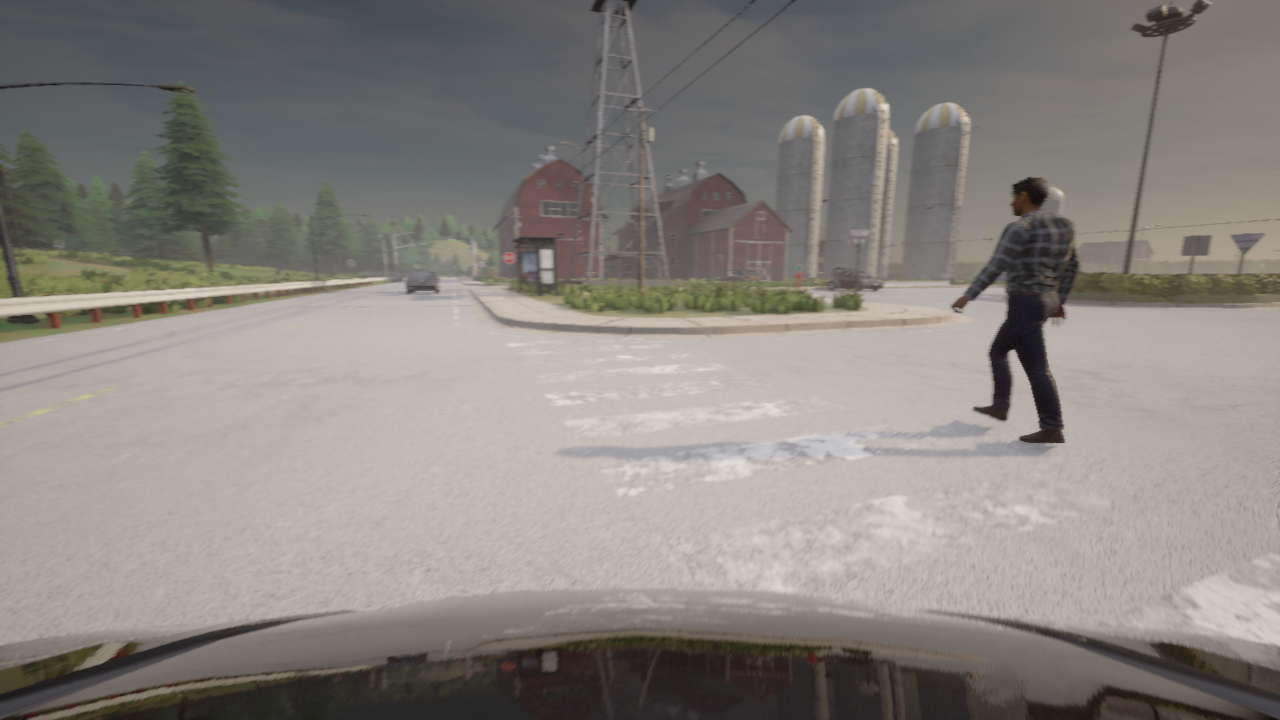cyclist: (0, 588, 1279, 719), (827, 270, 883, 290), (406, 270, 441, 293), (724, 271, 759, 282), (832, 267, 854, 277), (997, 272, 1004, 280), (1080, 272, 1083, 273)
pedestrian: (950, 176, 1080, 444), (794, 259, 803, 288)
